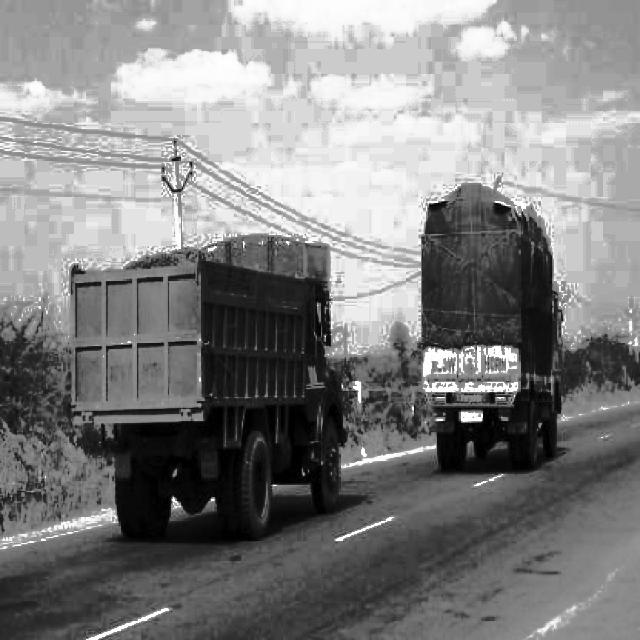HCV: (69, 200, 352, 510), (438, 154, 562, 427)
